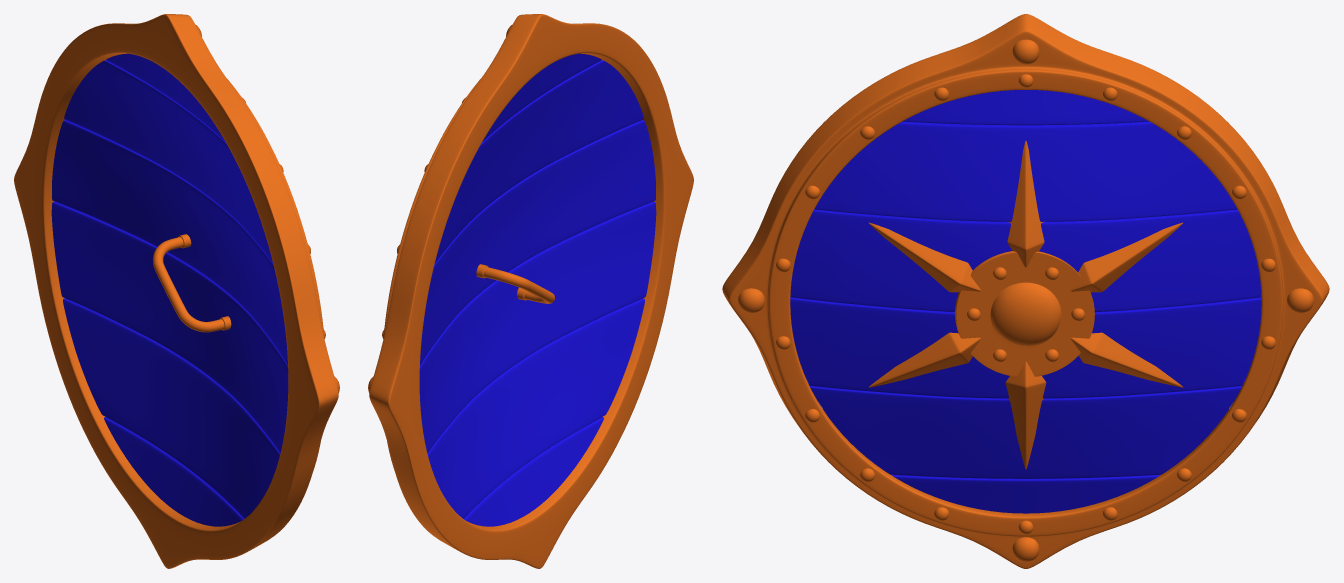
Rendered from shield.fbx.
The picture shows the model from 3 angles, left to right: view 1: azimuth 30°, elevation 25°; view 2: azimuth 150°, elevation 25°; view 3: azimuth 270°, elevation 25°; orthographic projection.
Visible parts, largest first — view 1: Cube.036, Cylinder.001, Plane.001; view 2: Cube.036, Cylinder.001, Plane.001; view 3: Cube.036, Cylinder.001, Cube.043, Cube.037, Cube.051.
Part boxes in pixels (<box>): Cube.036: <box>51,53,288,526</box>; Cylinder.001: <box>14,14,338,568</box>; Plane.001: <box>153,234,231,332</box>; Cube.036: <box>419,53,656,526</box>; Cylinder.001: <box>369,14,693,568</box>; Plane.001: <box>476,264,554,303</box>; Cube.036: <box>790,90,1261,513</box>; Cylinder.001: <box>722,14,1329,568</box>; Cube.043: <box>868,141,1183,469</box>; Cube.037: <box>954,251,1094,376</box>; Cube.051: <box>738,39,1313,561</box>.
Bounding box in the file's own units: 28.56 × 221 × 221.
